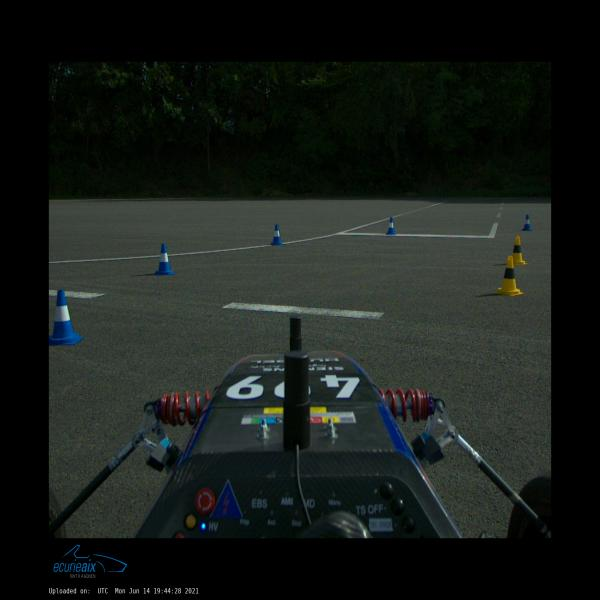blue_cone: (49, 289, 83, 345), (154, 244, 175, 275), (270, 224, 284, 245), (521, 214, 533, 231), (386, 218, 396, 234)
yellow_cone: (495, 256, 524, 295), (513, 237, 528, 265)
